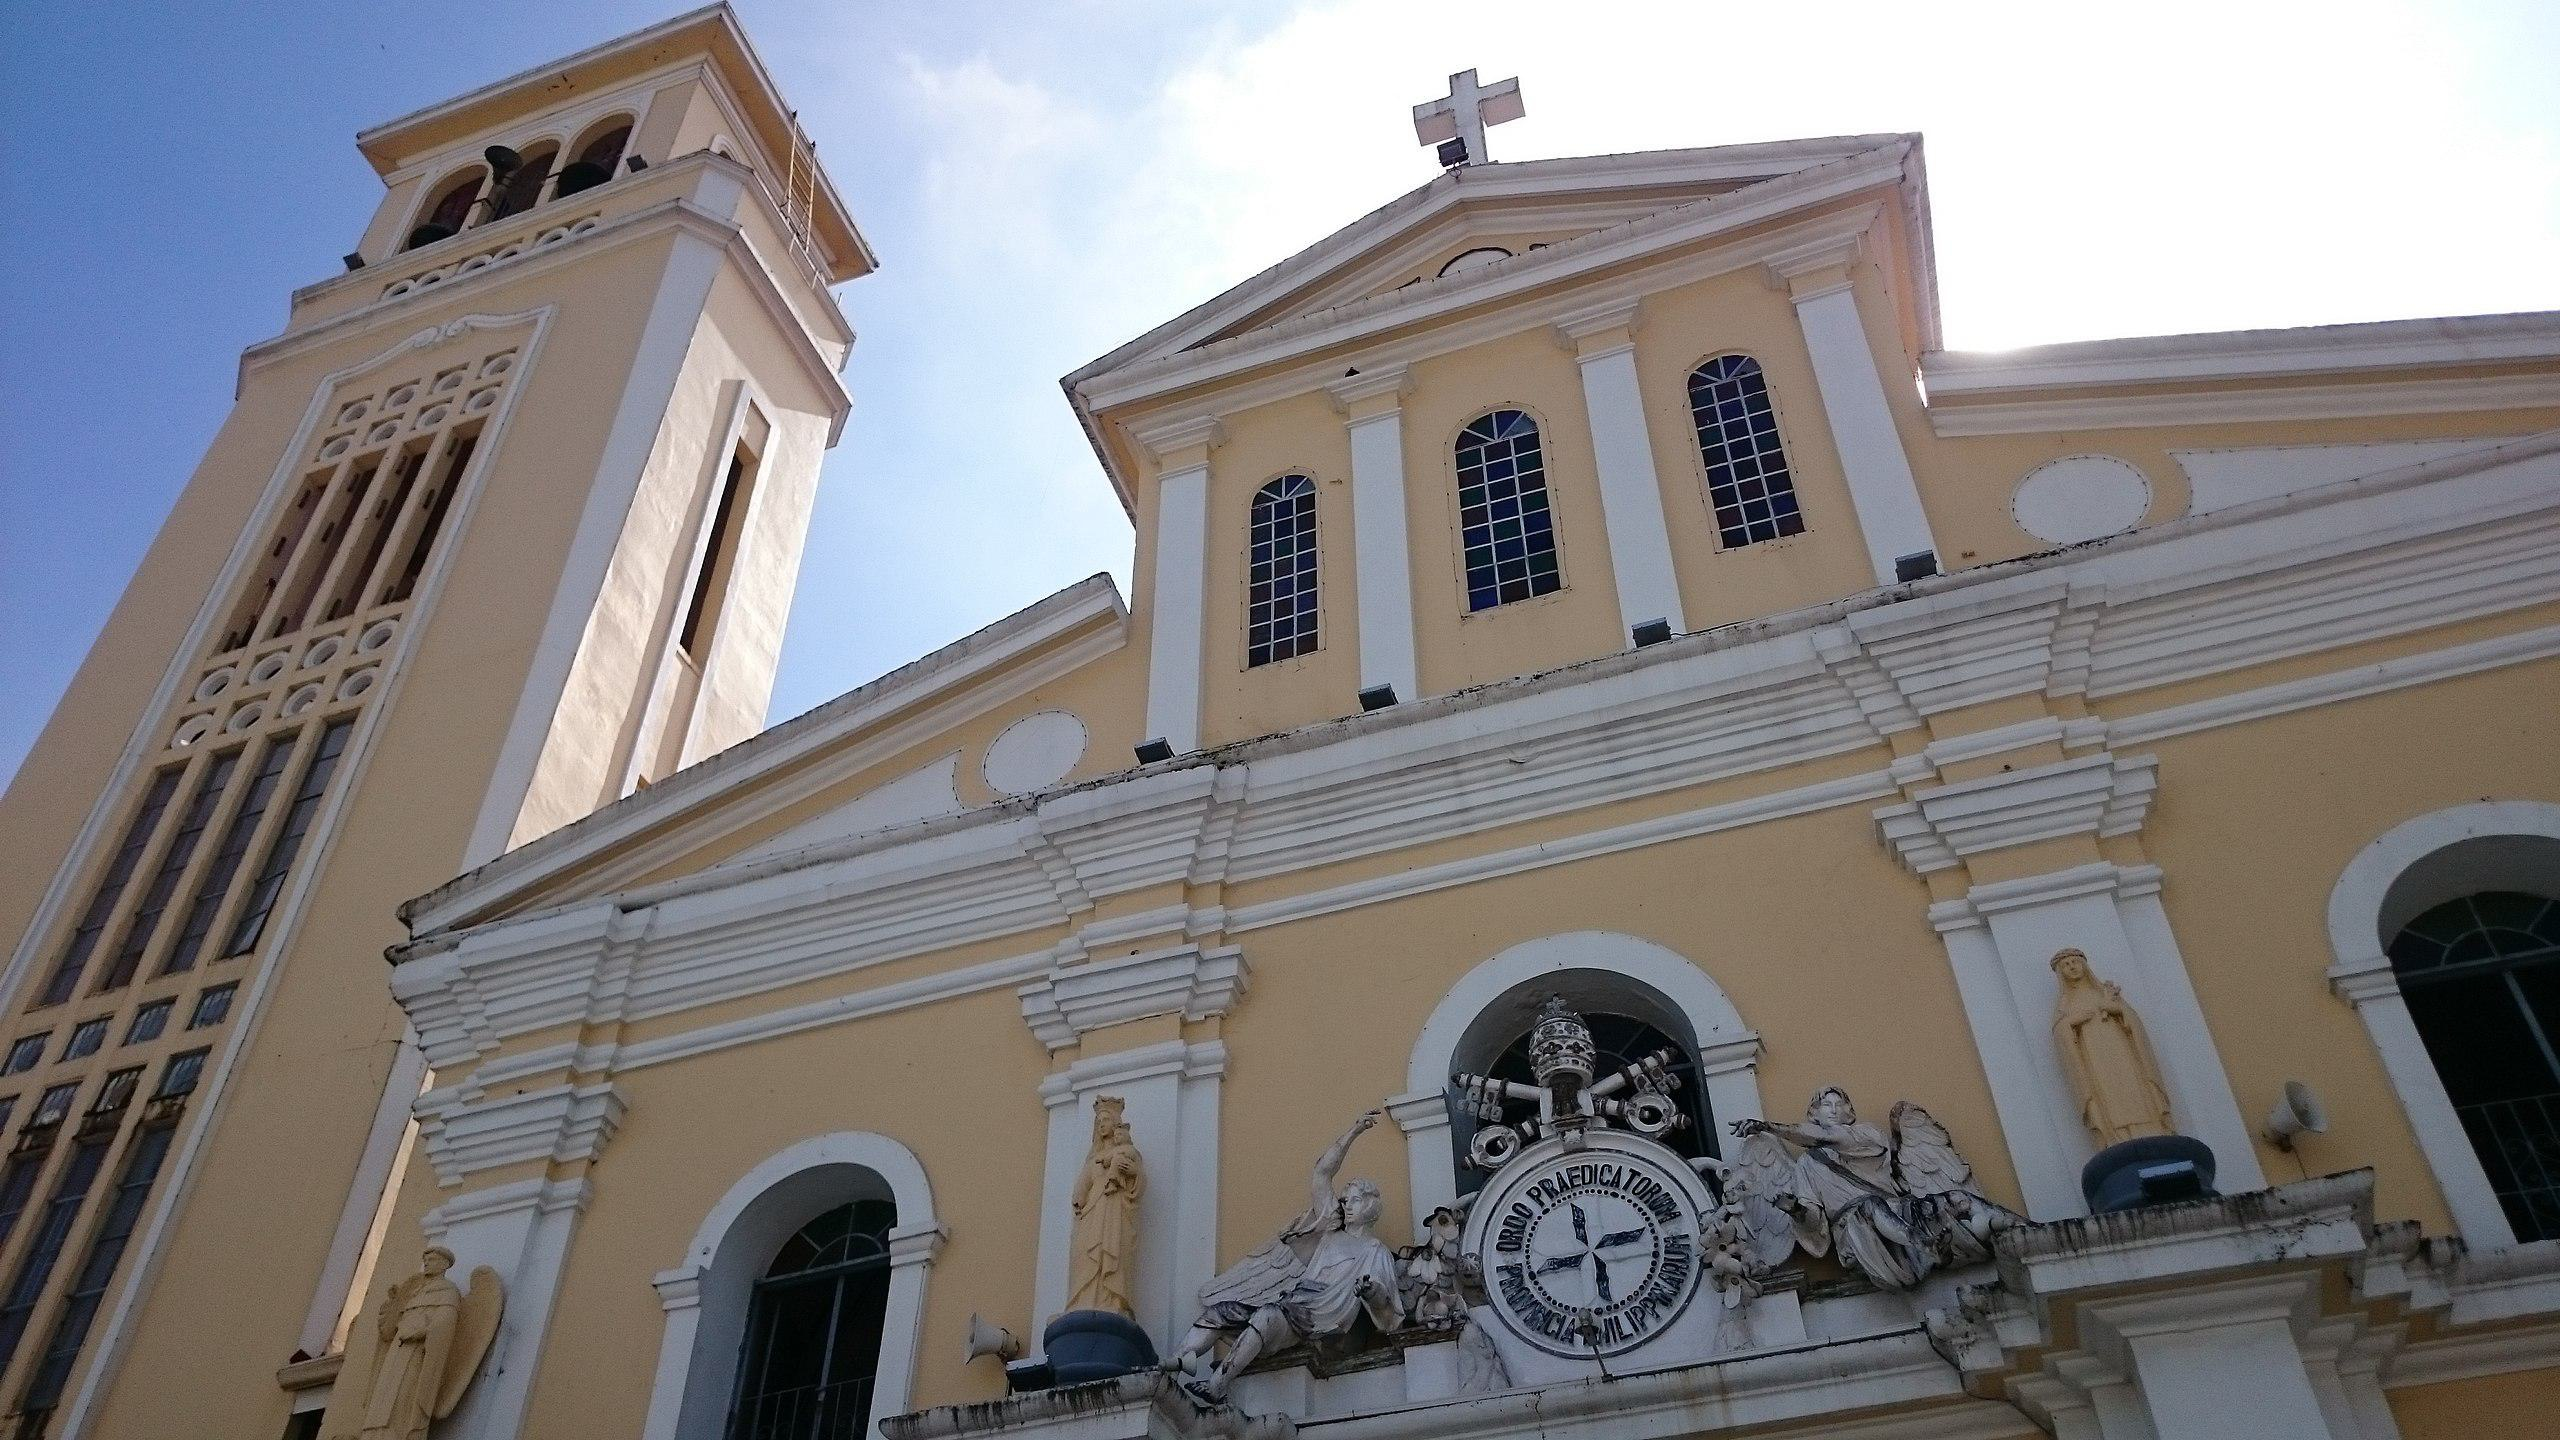manaoag_church_manaoag_pangasinan: (2, 11, 2555, 1440)
